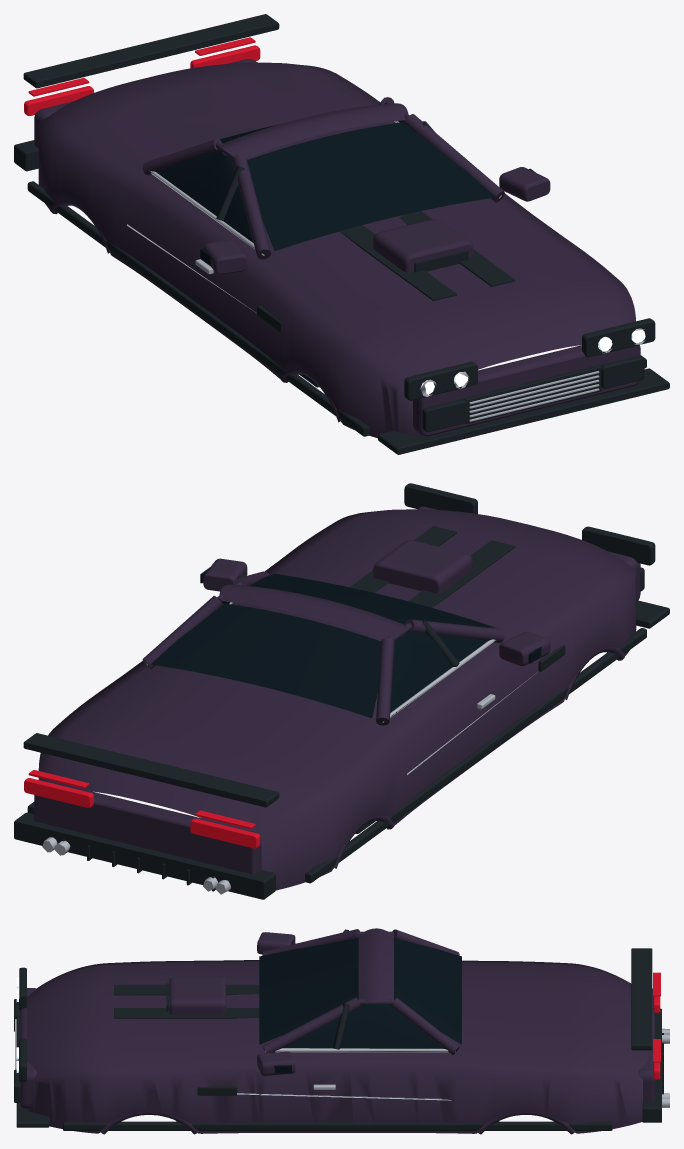
File: nightfall_v8_opt.glb
The picture shows the model from 3 angles, top to bottom: view 1: azimuth 30°, elevation 25°; view 2: azimuth 150°, elevation 25°; view 3: azimuth 270°, elevation 25°; orthographic projection. The views are drawn at different scales.
Visible parts, largest first — view 1: nightfall_v8; view 2: nightfall_v8; view 3: nightfall_v8.
Boxes of the visible parts, bbox=[...] form: nightfall_v8: bbox=[14, 14, 669, 454]; nightfall_v8: bbox=[14, 483, 669, 899]; nightfall_v8: bbox=[14, 928, 669, 1134].
Bounding box in the file's own units: 2.41 × 1.03 × 5.01.
